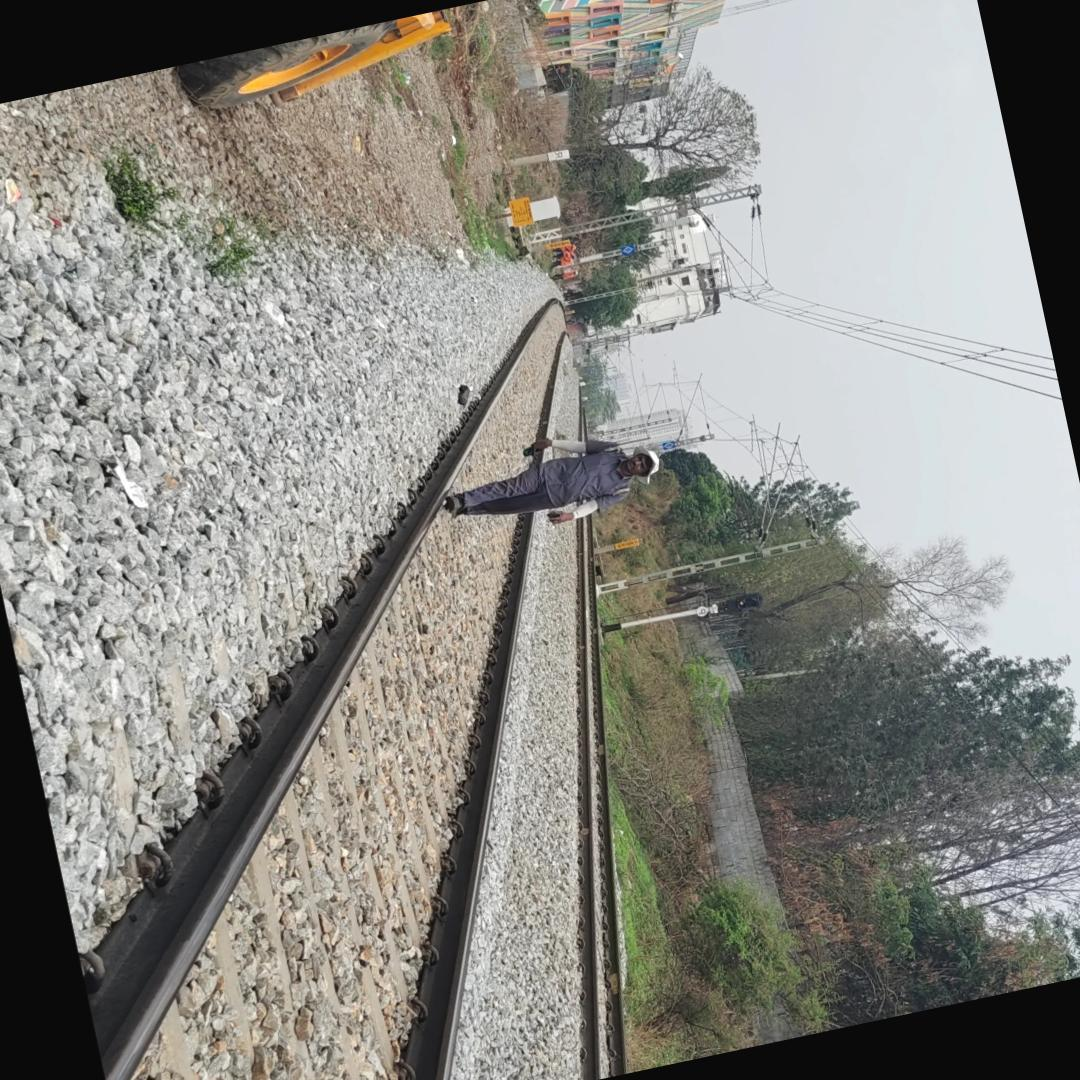standing: (433, 433, 662, 528), (539, 240, 587, 281)
track: (73, 286, 593, 1080)
